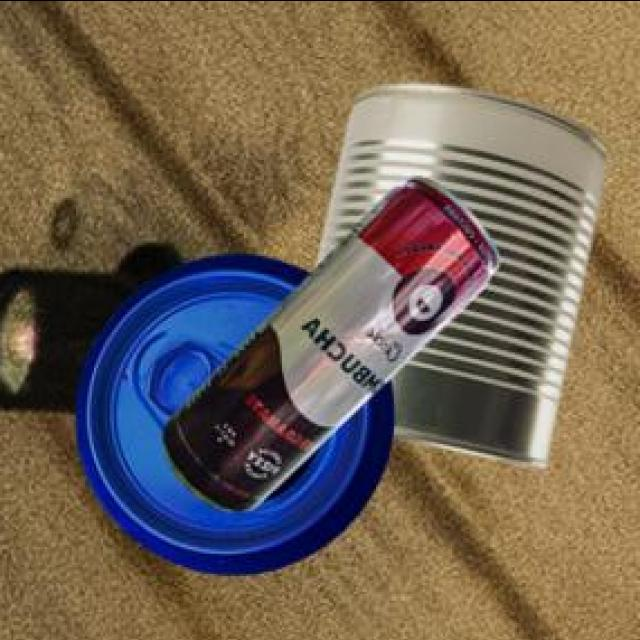logam: (167, 180, 502, 514), (321, 86, 610, 469), (79, 256, 397, 576)
